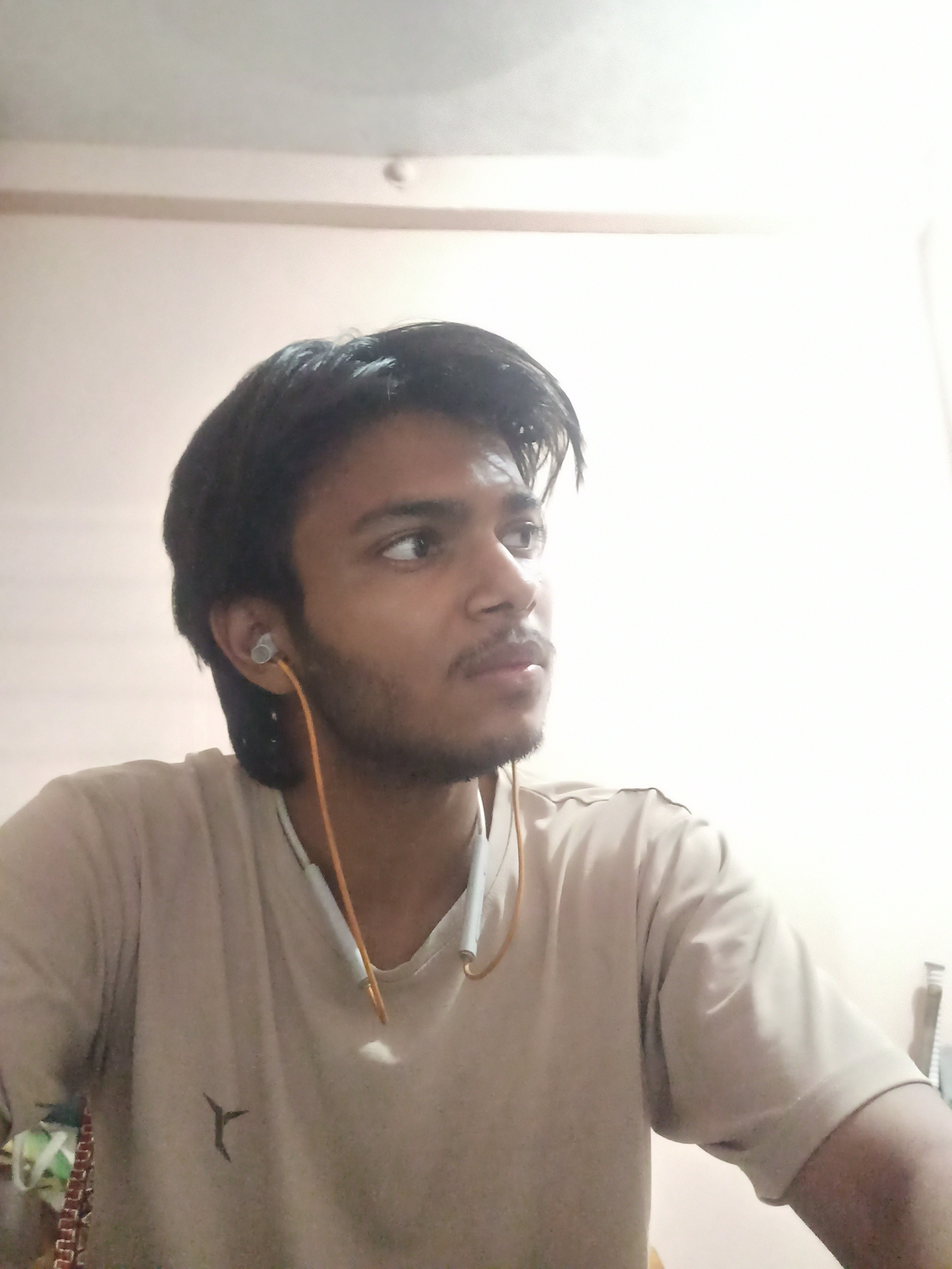distracted: (108, 265, 660, 869)
